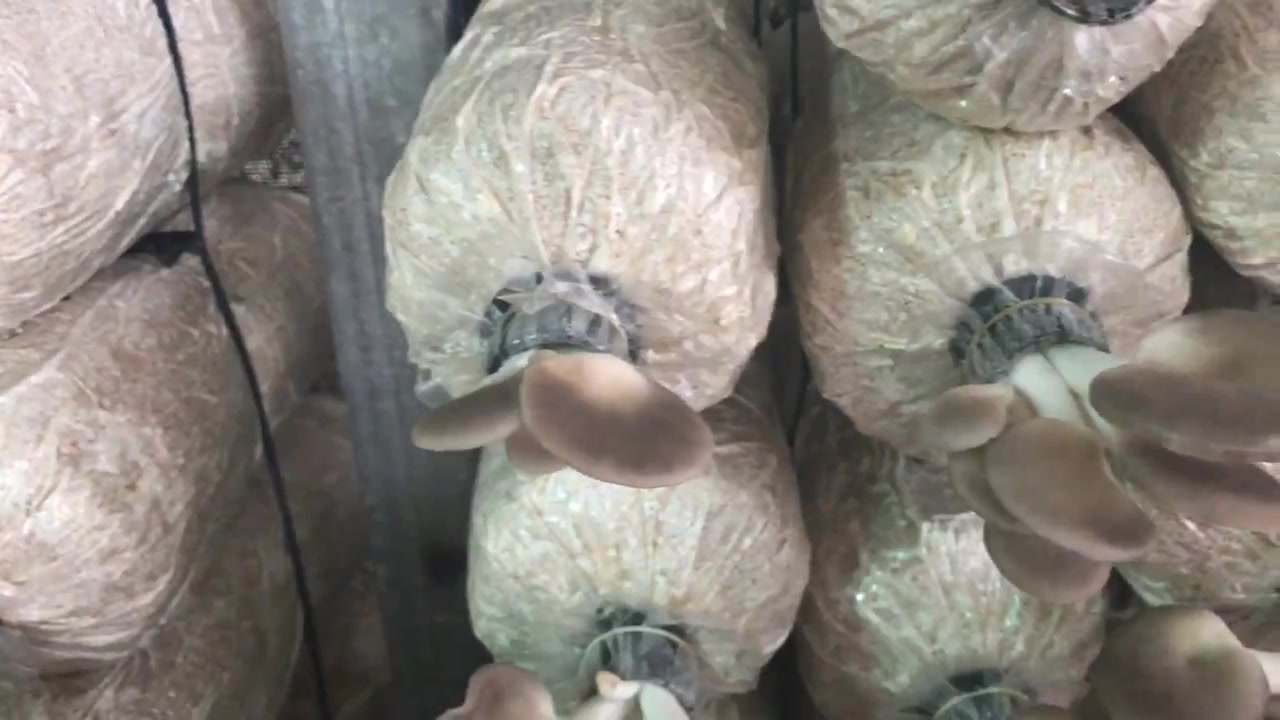nam: (956, 293, 1280, 604), (410, 285, 721, 498)
